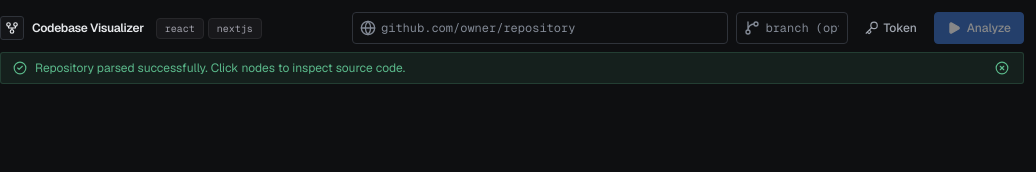
RepoSubmissionBar › allows dismissing completion notification manually via close button
Expected: the element with test id "ingestion-complete-banner" is shown, [0, 52, 1024, 84]
Click the button named "Dismiss completion notification" at (1002, 68), box [993, 59, 1011, 77]
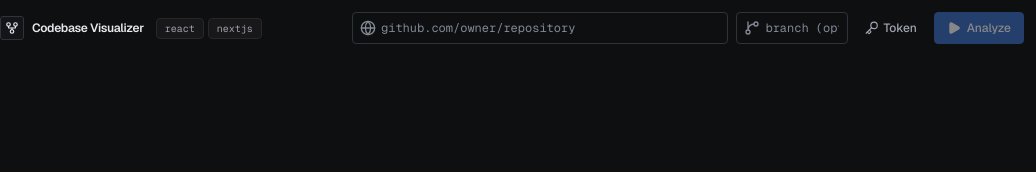
Expected: the element with test id "ingestion-complete-banner" is gone
